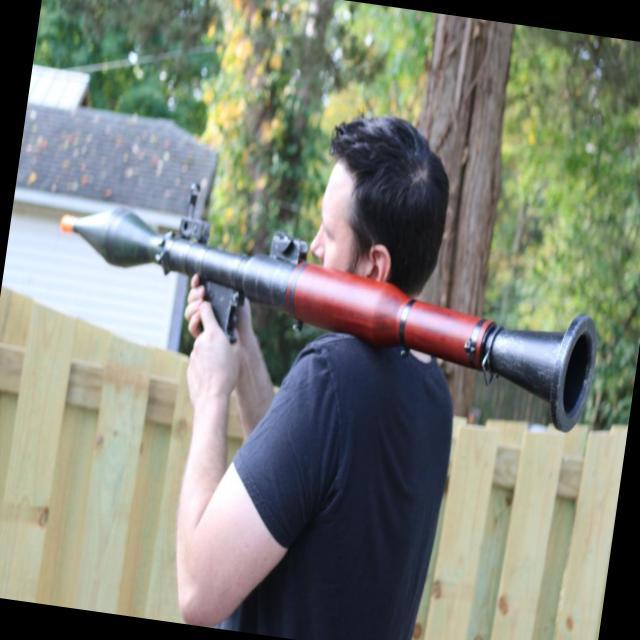rocket: (41, 200, 620, 438)
